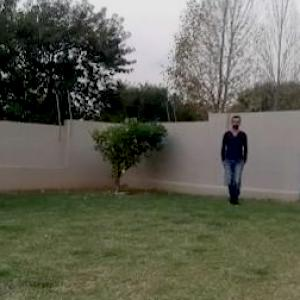follow: (221, 116, 244, 207)
